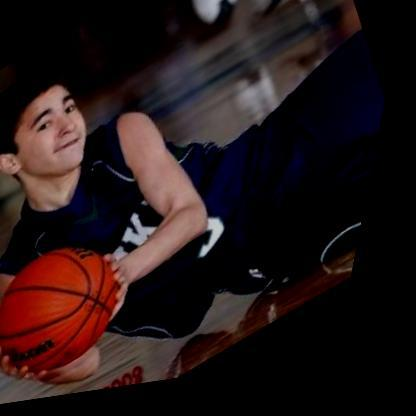basketball: (0, 209, 177, 412)
